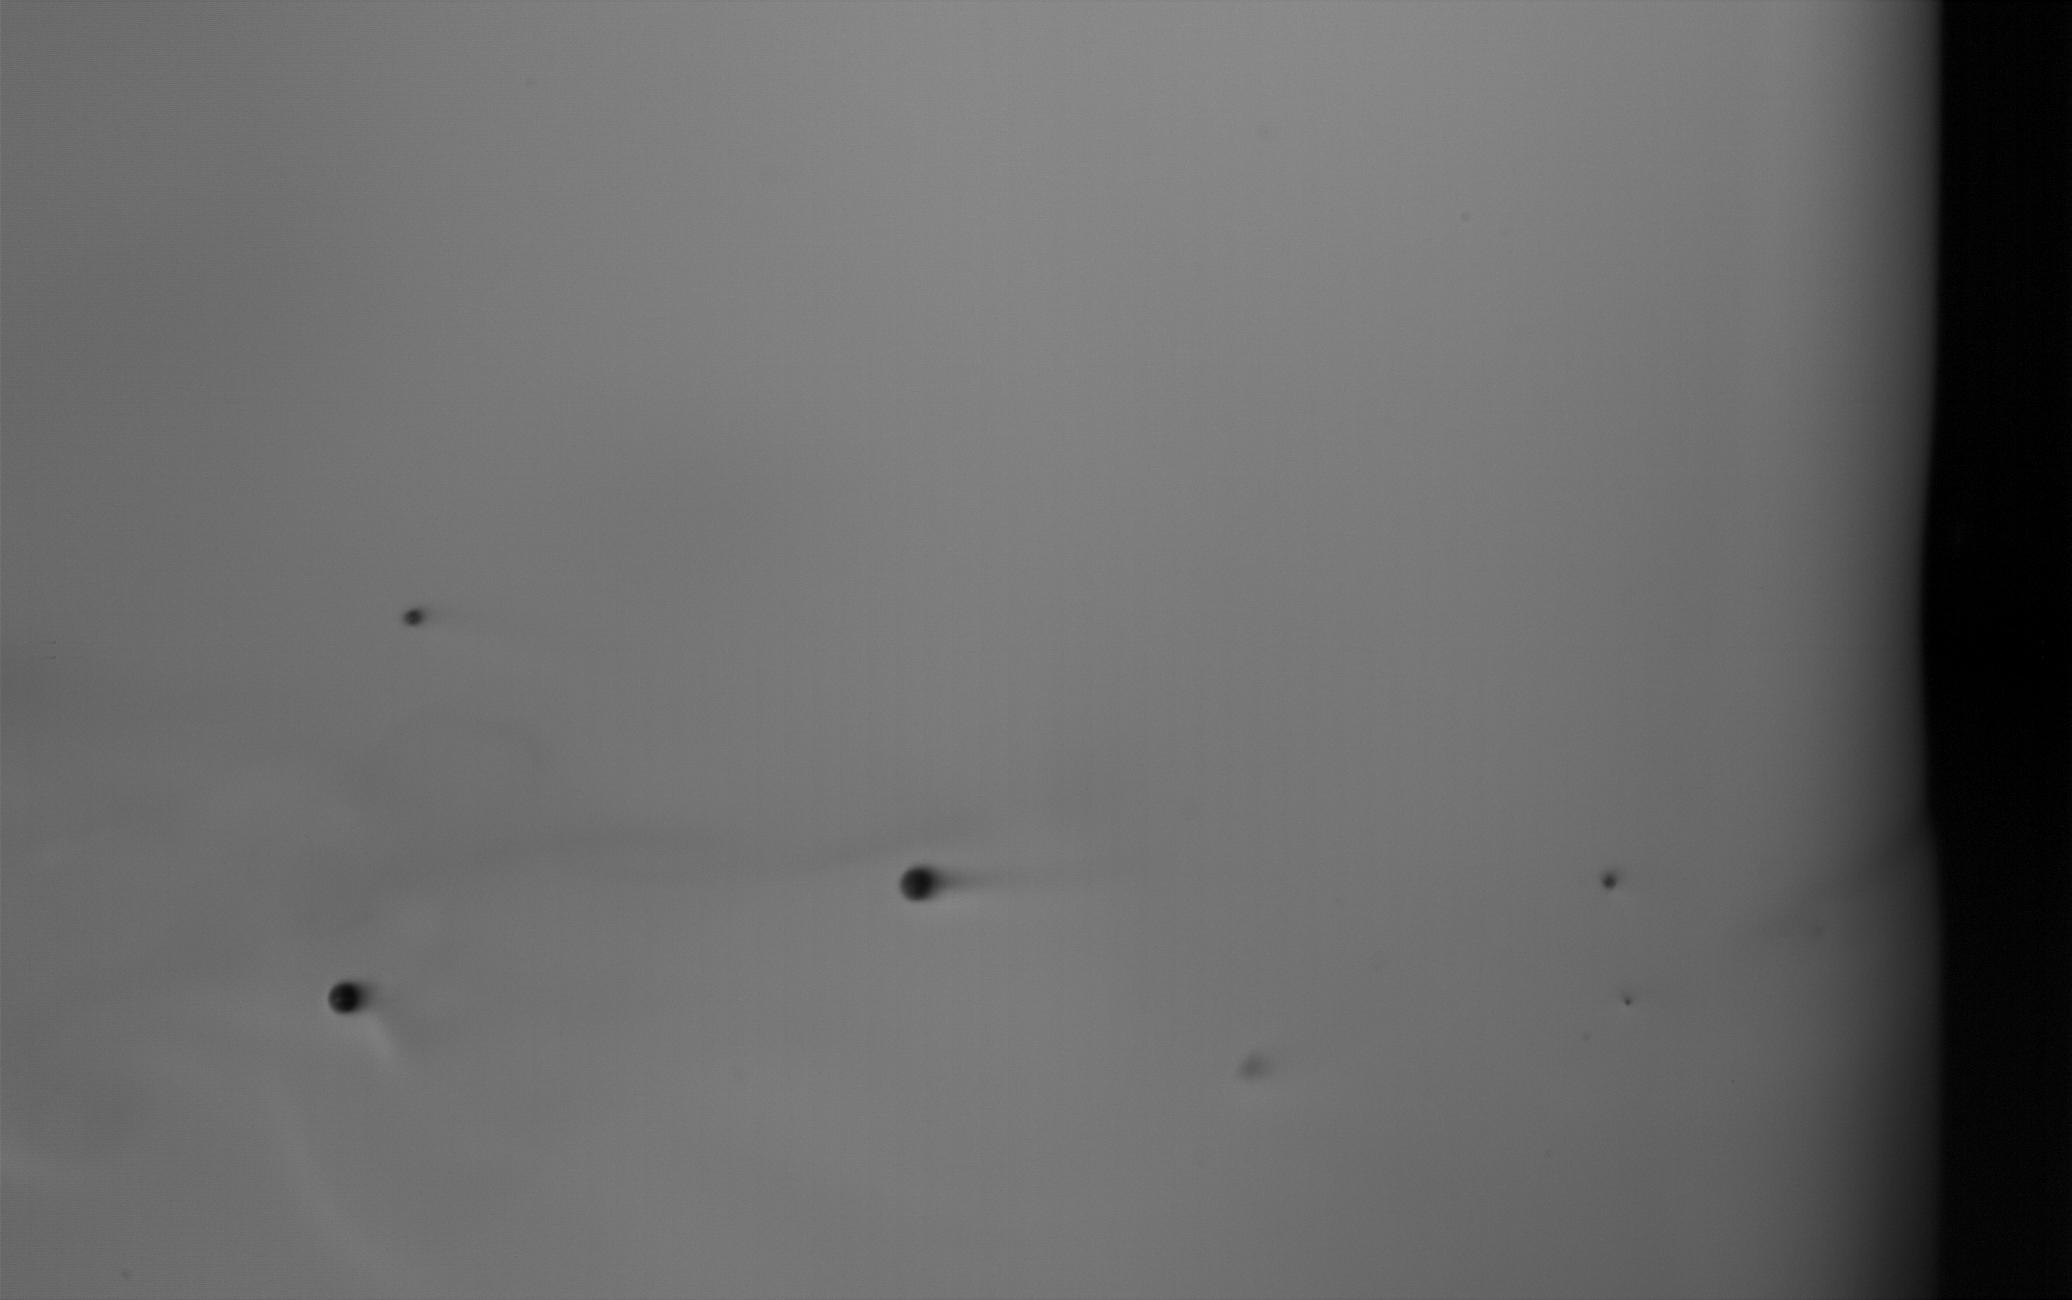Blurry: (1234, 1047, 1273, 1080)
ClassicalEvaporation: (898, 861, 946, 908), (329, 978, 365, 1015), (403, 607, 422, 628), (1600, 873, 1617, 890), (1624, 996, 1633, 1006)
